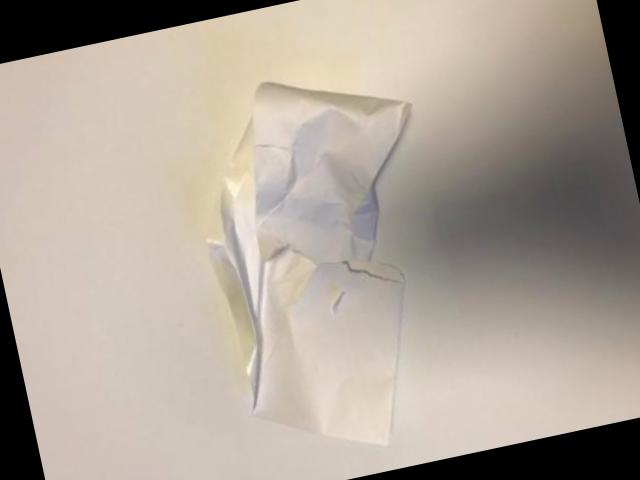cardboard paper: (205, 83, 409, 443)
